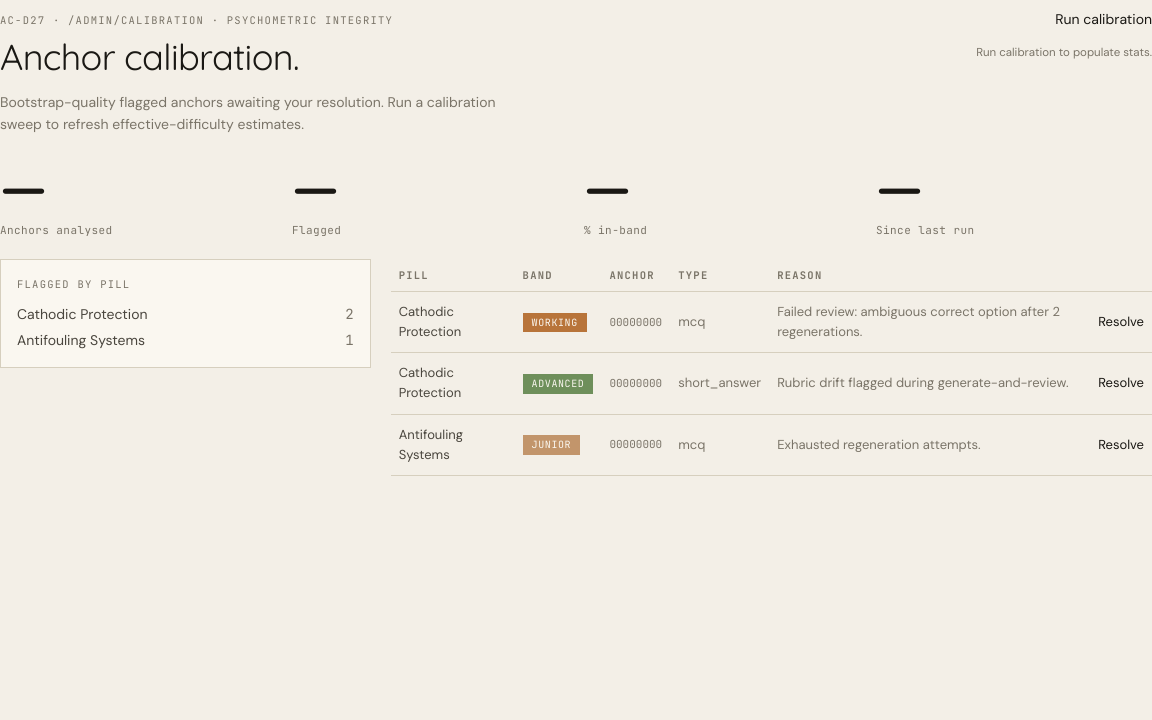
Test: calibration — resolve › accept resolution closes the modal
Expected: the table with test id "calibration-table" is shown, [391,259,1151,476]
Click the button "Resolve" in the row of "Working" at (1121, 322), box [1098,304,1144,340]
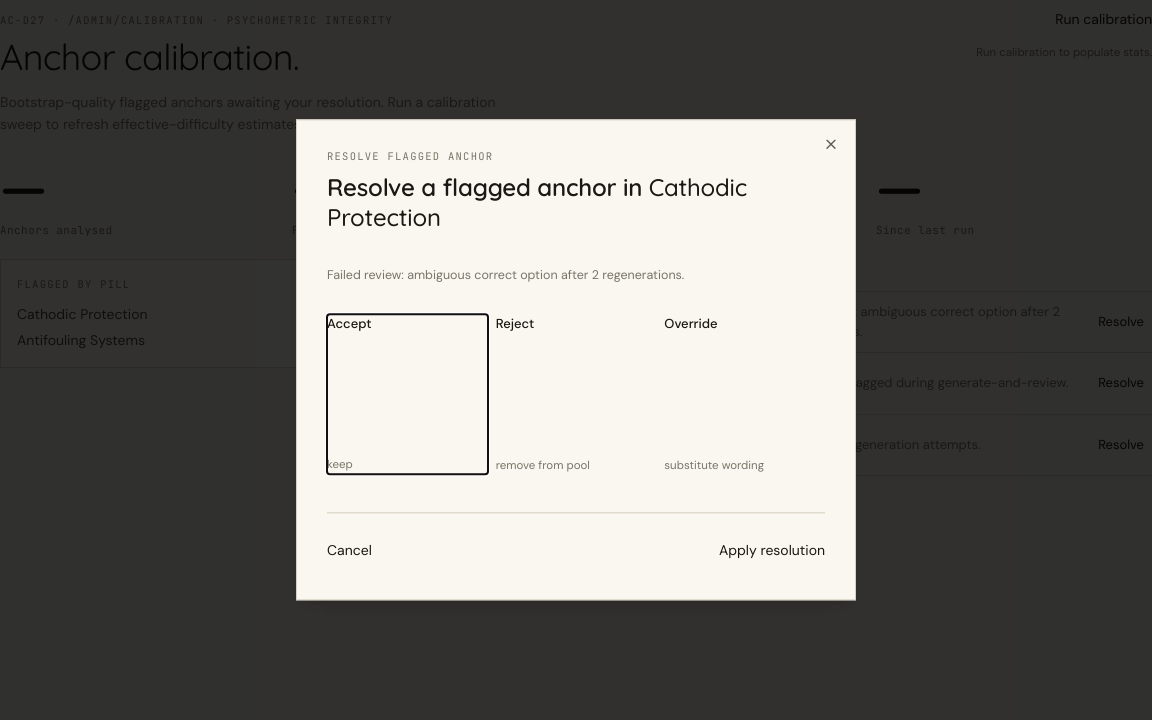
Click the radio button with test id "verdict-tile-accept" at (407, 394), box [327,314,488,475]
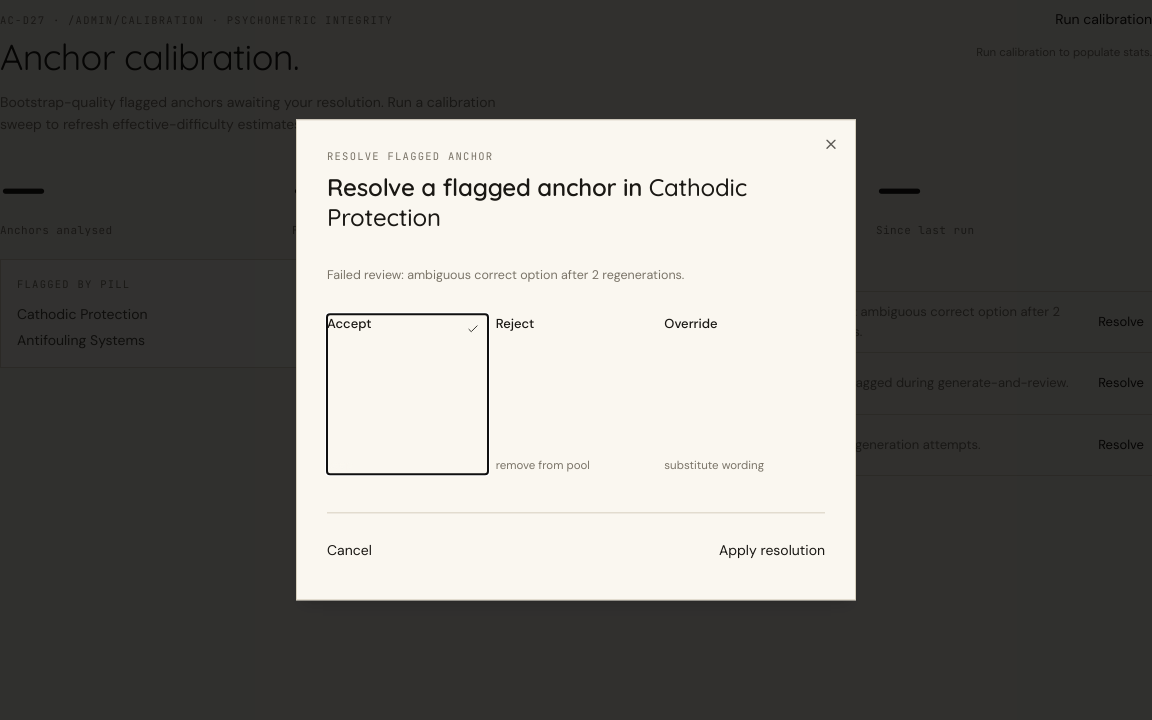
Click the button with test id "anchor-resolve-apply" at (772, 552), box [719,532,825,572]
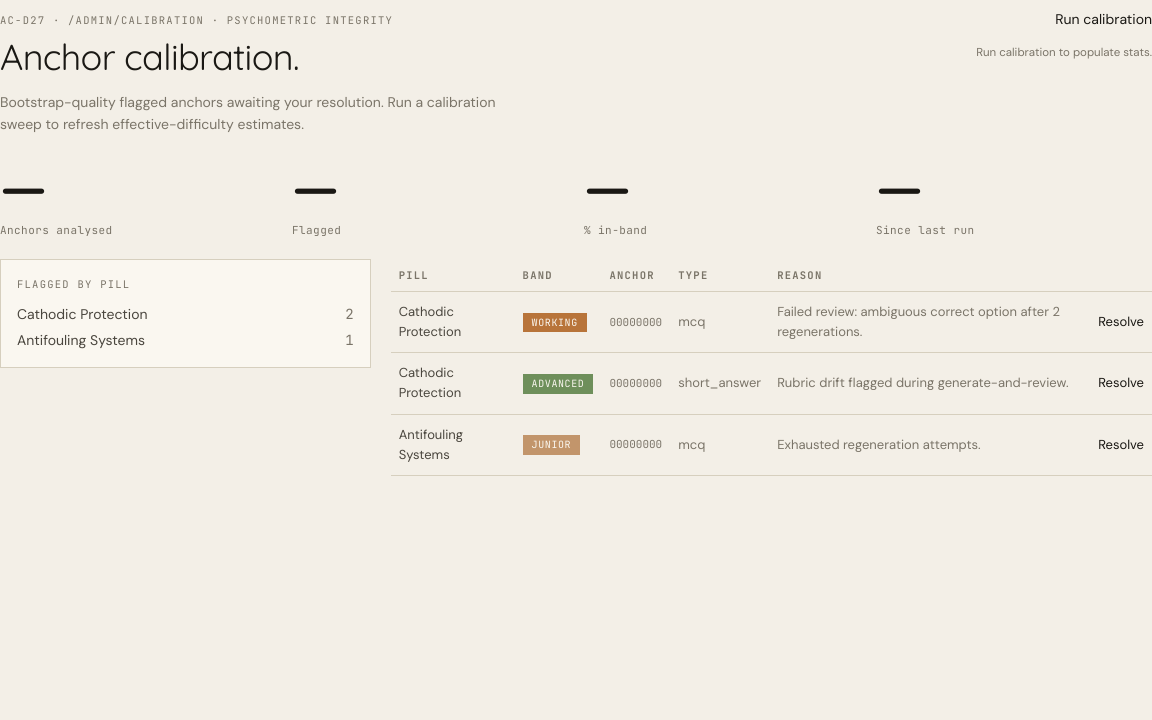
Result: the button with test id "anchor-resolve-apply" is gone
